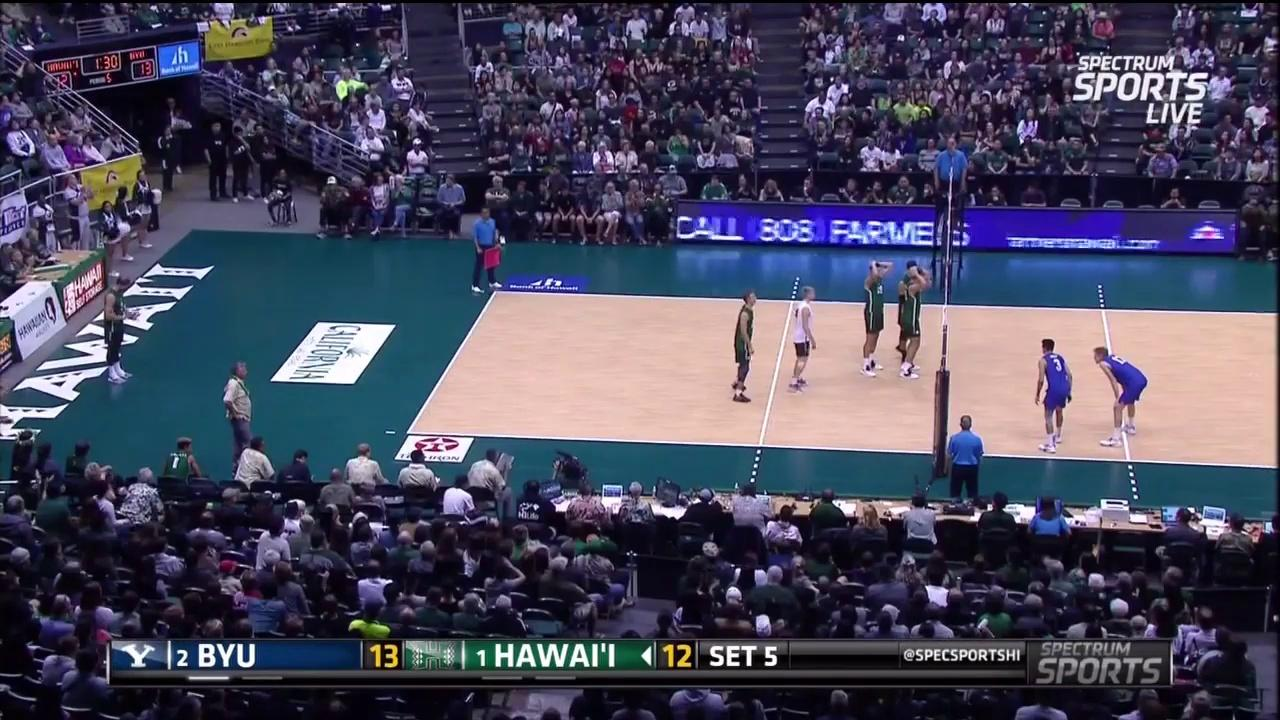player: (1094, 343, 1148, 447), (105, 273, 142, 392), (1034, 338, 1072, 451), (783, 281, 817, 390), (862, 261, 893, 373), (732, 291, 759, 401), (899, 254, 922, 362), (904, 263, 924, 380)
refree: (949, 409, 986, 500), (934, 136, 969, 223), (466, 204, 499, 294)
